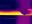Hotspot: (0, 11, 23, 15)
